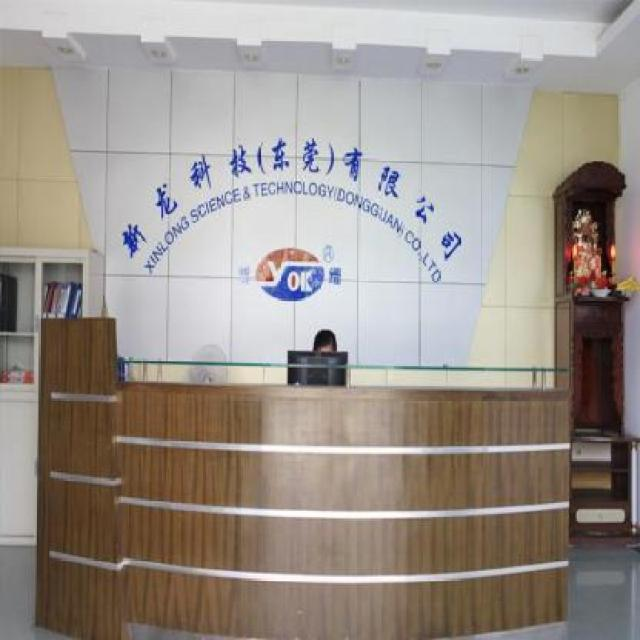frontdesk: (29, 301, 585, 640)
